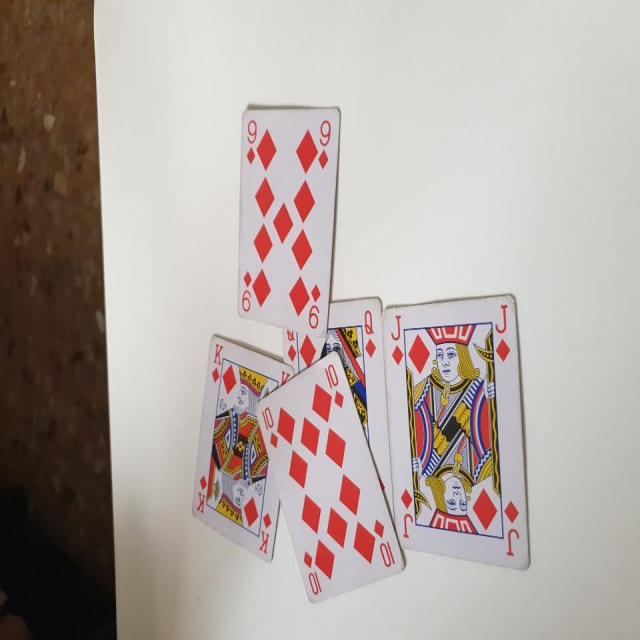10 Diamonds: (254, 348, 407, 606)
9 Diamonds: (235, 102, 342, 337)
J Diamonds: (381, 294, 533, 574)
K Diamonds: (190, 335, 295, 564)
Q Diamonds: (284, 296, 396, 521)
